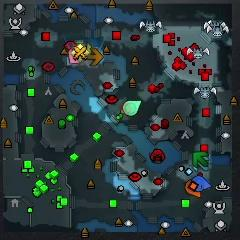p1: (190, 176, 212, 193)
p2: (123, 100, 142, 116)
p5: (185, 180, 202, 198)
x1: (67, 51, 80, 65)
x2: (82, 41, 91, 54)
x3: (193, 156, 210, 171)
x4: (191, 151, 208, 168)
x5: (86, 48, 103, 65)
